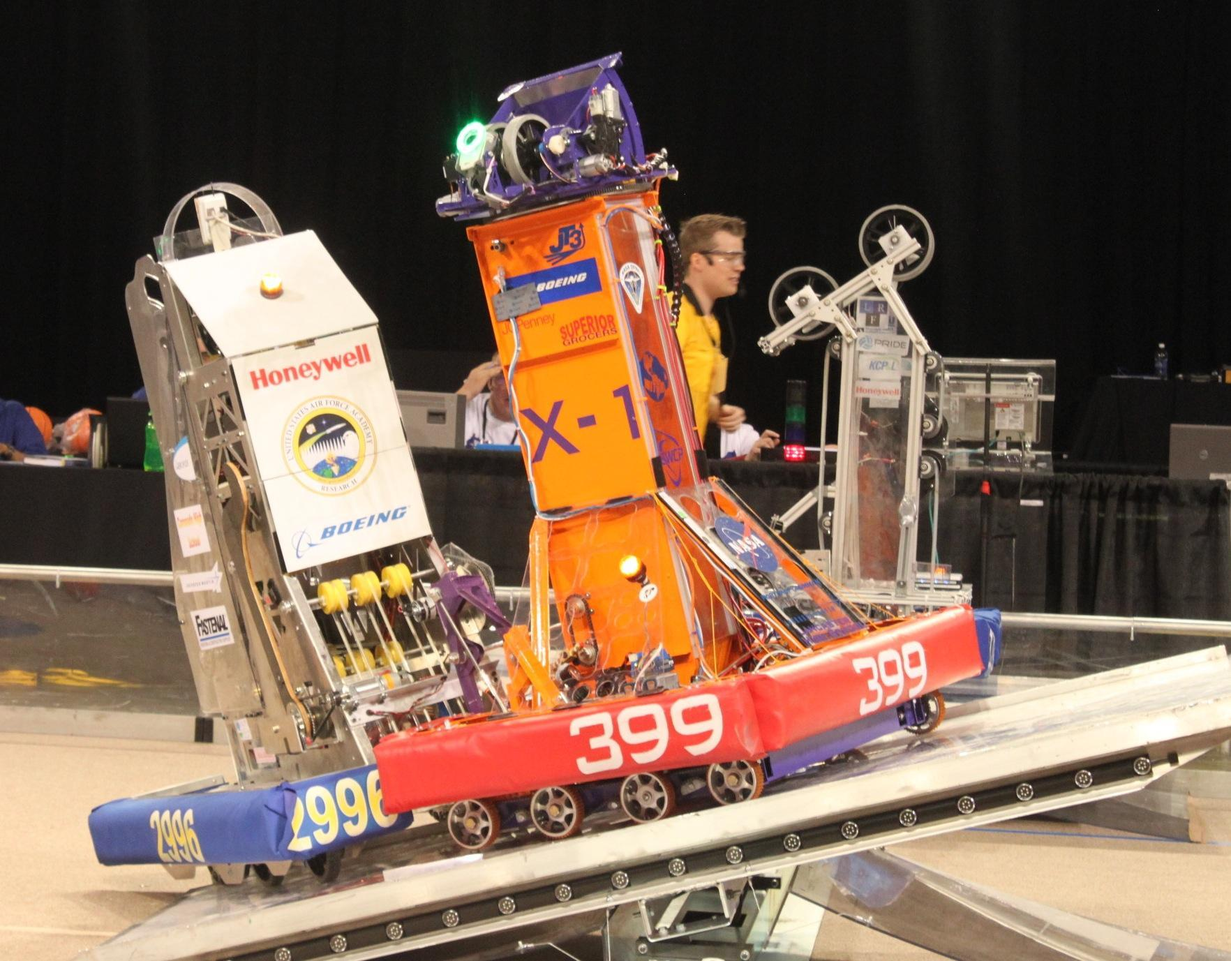robot: (364, 42, 1008, 854), (77, 154, 522, 899), (754, 191, 1022, 702)
